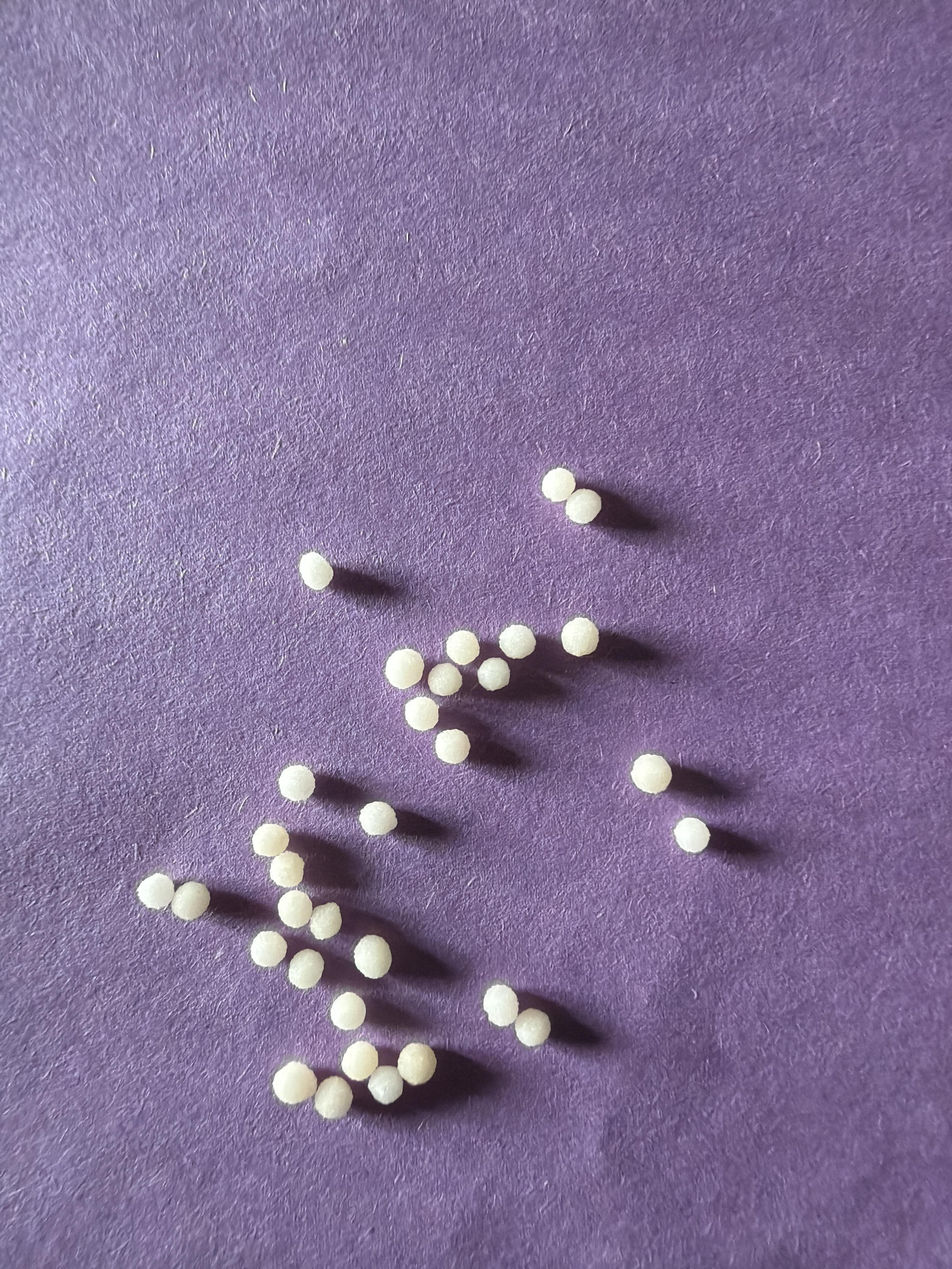pill: (272, 1061, 317, 1104), (397, 1042, 436, 1086), (353, 935, 392, 979), (314, 1076, 352, 1120), (631, 754, 672, 793), (384, 648, 423, 689), (171, 881, 210, 921), (561, 616, 599, 657), (483, 983, 518, 1027), (341, 1041, 378, 1082), (288, 949, 324, 990), (137, 872, 175, 910), (514, 1008, 551, 1047), (278, 764, 315, 803), (673, 816, 710, 854), (277, 889, 313, 928), (367, 1066, 403, 1105), (249, 932, 287, 968), (330, 992, 366, 1030), (299, 551, 333, 591), (359, 801, 397, 836), (269, 850, 304, 888), (498, 624, 536, 659), (434, 729, 470, 764), (541, 467, 576, 503), (565, 489, 601, 524), (252, 823, 289, 857), (404, 696, 439, 731), (445, 630, 479, 665), (310, 902, 341, 940), (428, 663, 462, 697), (477, 657, 510, 691)
